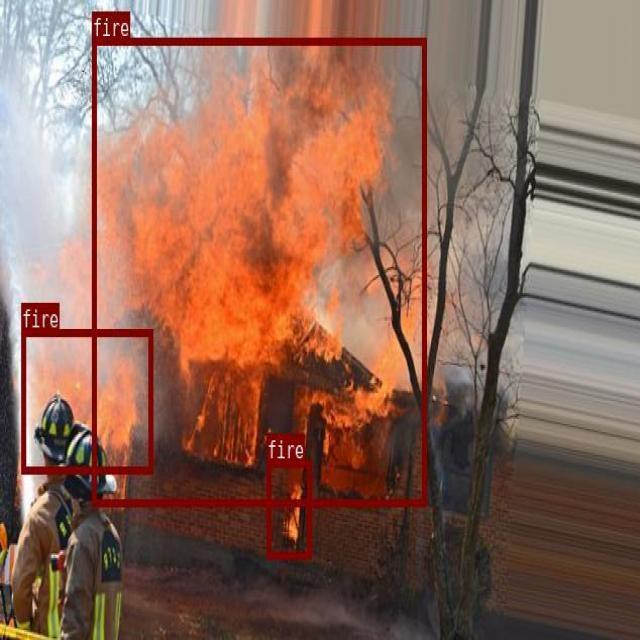fire: (92, 36, 426, 505), (21, 328, 152, 472), (266, 458, 310, 558)
